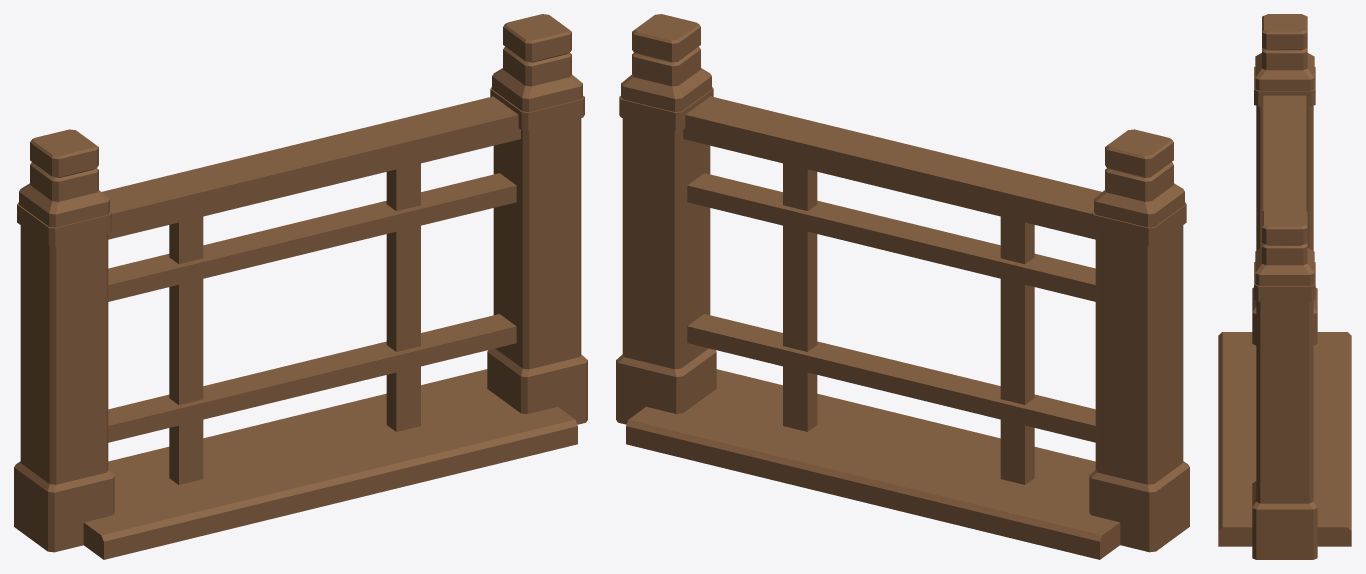
File: model_WoodFence_low.fbx
3 views of the same model, side by side, from view 1: azimuth 30°, elevation 25°; view 2: azimuth 150°, elevation 25°; view 3: azimuth 270°, elevation 25° (orthographic). The views are drawn at different scales.
Visible parts, largest first — view 1: base, pilar2, pilar, pasted__fence_mid, pasted__fence_mid2, pasted__fence_mid8, pasted__fence_mid9, pasted__fence_mid5; view 2: base, pilar2, pilar, pasted__fence_mid, pasted__fence_mid2, pasted__fence_mid8, pasted__fence_mid9, pasted__fence_mid5; view 3: pilar, base, pilar2, pasted__fence_mid.
Part boxes in pixels (<box>): base: <box>83,369,577,559</box>; pilar2: <box>14,129,114,552</box>; pilar: <box>487,14,587,424</box>; pasted__fence_mid: <box>102,96,520,239</box>; pasted__fence_mid2: <box>108,173,516,301</box>; pasted__fence_mid8: <box>108,314,516,442</box>; pasted__fence_mid9: <box>169,216,203,484</box>; pasted__fence_mid5: <box>386,163,420,431</box>; base: <box>626,369,1120,559</box>; pilar2: <box>1089,129,1189,552</box>; pilar: <box>616,14,716,424</box>; pasted__fence_mid: <box>683,96,1101,239</box>; pasted__fence_mid2: <box>687,173,1095,301</box>; pasted__fence_mid8: <box>687,314,1095,442</box>; pasted__fence_mid9: <box>1000,216,1034,484</box>; pasted__fence_mid5: <box>783,163,817,431</box>; pilar: <box>1252,209,1317,559</box>; base: <box>1218,332,1351,546</box>; pilar2: <box>1252,14,1317,345</box>; pasted__fence_mid: <box>1263,95,1306,210</box>.
Size of the model in its own units: 160 by 110 by 40.53.
